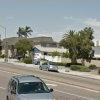Car: (5, 67, 62, 100)
